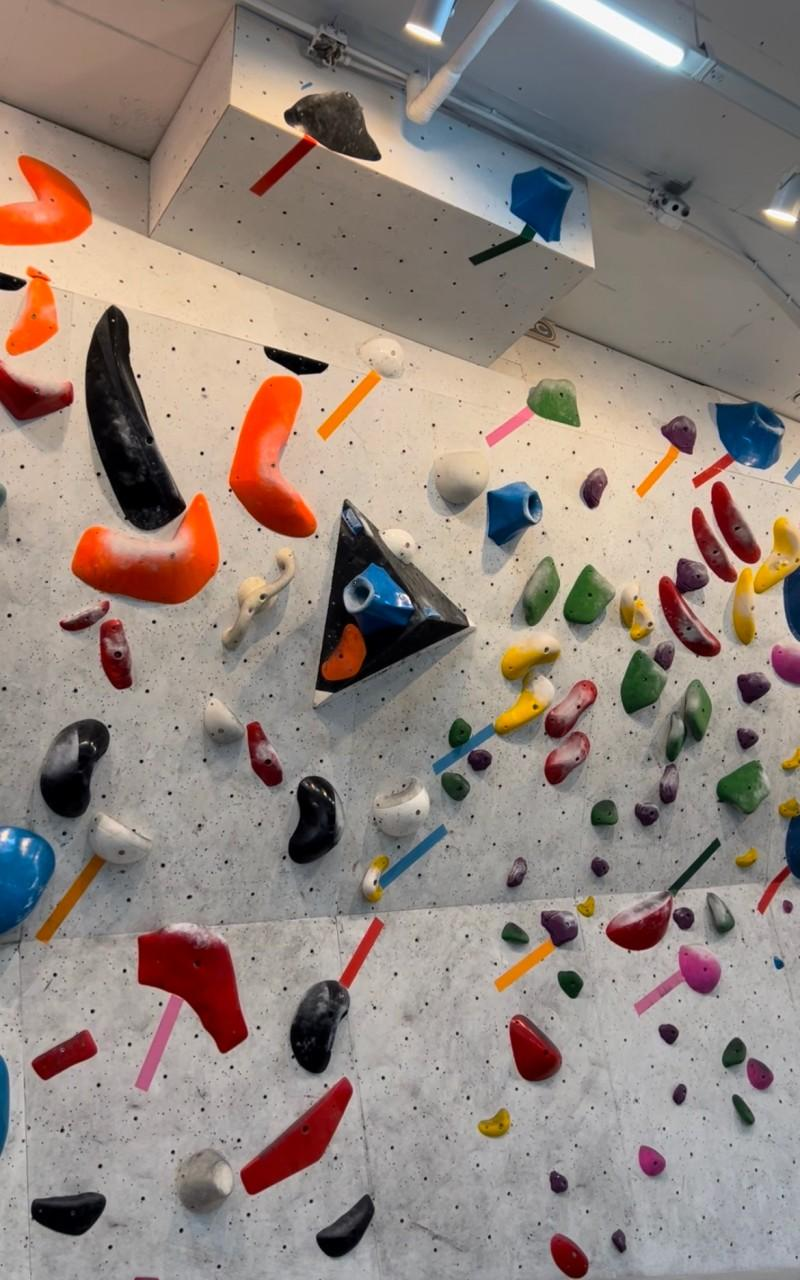hold: (86, 307, 185, 530), (72, 494, 219, 604), (229, 375, 316, 537), (138, 925, 246, 1052), (241, 1078, 352, 1195), (0, 156, 92, 245), (223, 549, 294, 650), (40, 719, 108, 817), (284, 92, 380, 161), (0, 826, 55, 935), (291, 980, 349, 1072), (658, 576, 719, 655), (5, 267, 58, 356), (511, 166, 572, 243), (344, 565, 411, 634), (288, 777, 341, 864), (0, 359, 72, 420), (717, 403, 782, 470), (712, 481, 760, 563), (606, 893, 673, 951), (178, 1148, 233, 1213), (493, 675, 554, 733), (753, 517, 799, 593), (509, 1015, 561, 1082), (372, 779, 429, 840), (317, 1195, 372, 1258), (486, 482, 540, 545), (692, 507, 736, 582), (434, 451, 488, 512), (32, 1192, 105, 1236), (32, 1030, 96, 1080), (90, 812, 149, 864), (564, 565, 615, 624), (621, 650, 666, 714), (545, 680, 594, 738), (501, 633, 560, 680), (717, 760, 768, 814), (521, 557, 559, 626), (527, 379, 579, 427), (322, 625, 366, 681), (545, 730, 589, 784), (245, 722, 282, 786), (100, 619, 132, 688), (679, 947, 720, 994), (731, 568, 755, 645), (621, 582, 652, 641), (204, 696, 241, 744), (359, 336, 404, 375), (266, 346, 327, 374), (683, 680, 711, 740), (551, 1234, 588, 1279), (60, 601, 109, 632), (362, 855, 390, 903), (662, 415, 696, 454), (541, 912, 578, 947), (675, 558, 708, 593), (666, 707, 685, 761), (707, 894, 734, 932), (737, 673, 770, 704), (583, 468, 607, 510), (382, 528, 415, 558), (479, 1108, 511, 1137), (0, 1056, 9, 1153), (785, 817, 799, 879), (638, 1145, 665, 1177), (747, 1058, 773, 1090), (441, 771, 468, 801), (420, 593, 445, 625), (659, 764, 679, 802), (558, 970, 583, 998), (448, 718, 471, 748), (591, 800, 617, 826), (723, 1037, 746, 1066), (507, 858, 527, 887), (503, 922, 528, 945), (733, 1095, 752, 1125), (467, 749, 491, 772), (342, 508, 362, 535), (654, 643, 674, 670), (736, 728, 758, 750), (673, 906, 694, 929), (635, 805, 657, 826), (778, 797, 799, 819), (0, 272, 24, 291), (781, 746, 799, 771), (736, 848, 757, 867), (659, 1023, 677, 1044), (611, 1229, 626, 1253), (577, 896, 594, 917), (550, 1170, 566, 1192), (591, 857, 608, 877), (673, 1084, 686, 1104), (774, 956, 783, 970), (783, 901, 791, 912)
volume: (315, 500, 468, 697)
